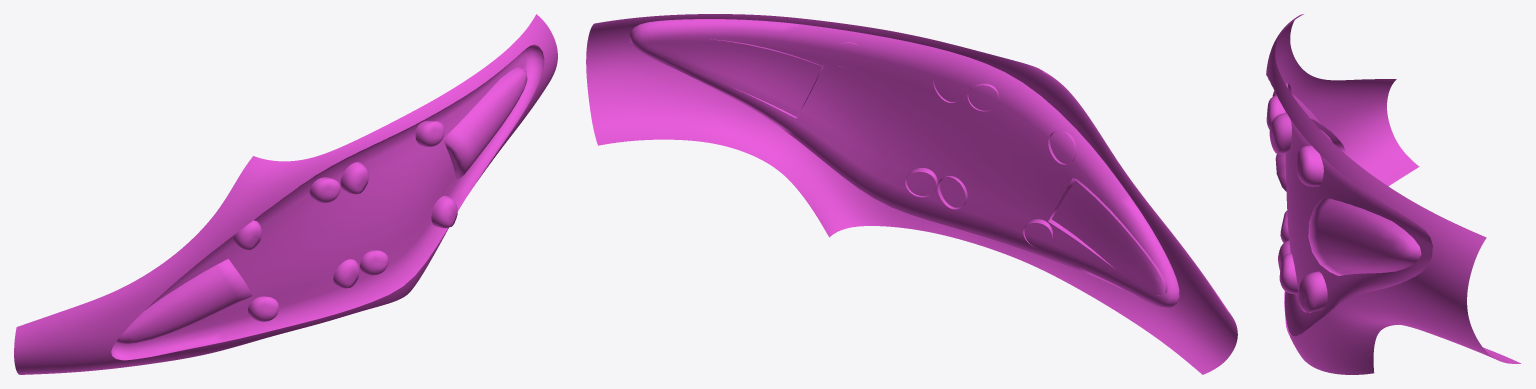
The model's file is cuban_side_cavity_diamond.glb.
3 renders of one model, left to right at view 1: azimuth 30°, elevation 25°; view 2: azimuth 150°, elevation 25°; view 3: azimuth 270°, elevation 25°, orthographic. The views are drawn at different scales.
Visible parts, largest first — view 1: cuban_side_cavity_diamond; view 2: cuban_side_cavity_diamond; view 3: cuban_side_cavity_diamond.
Boxes of the visible parts, left/top/right/bottom form: cuban_side_cavity_diamond: left=14, top=14, right=557, bottom=374; cuban_side_cavity_diamond: left=586, top=14, right=1237, bottom=374; cuban_side_cavity_diamond: left=1266, top=14, right=1520, bottom=374.
Size of the model in its own units: 0.1365 by 0.0483 by 0.0383.
